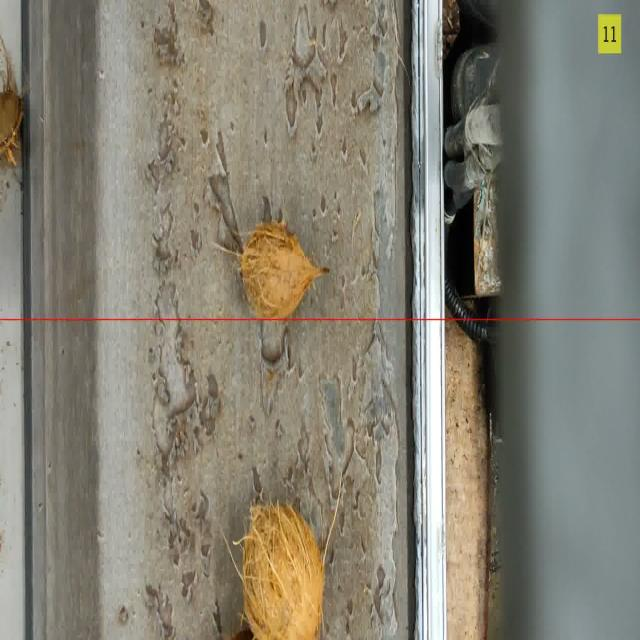Coconut-Conveyor-Belt: (242, 505, 323, 639), (239, 223, 322, 318), (0, 39, 23, 165)
